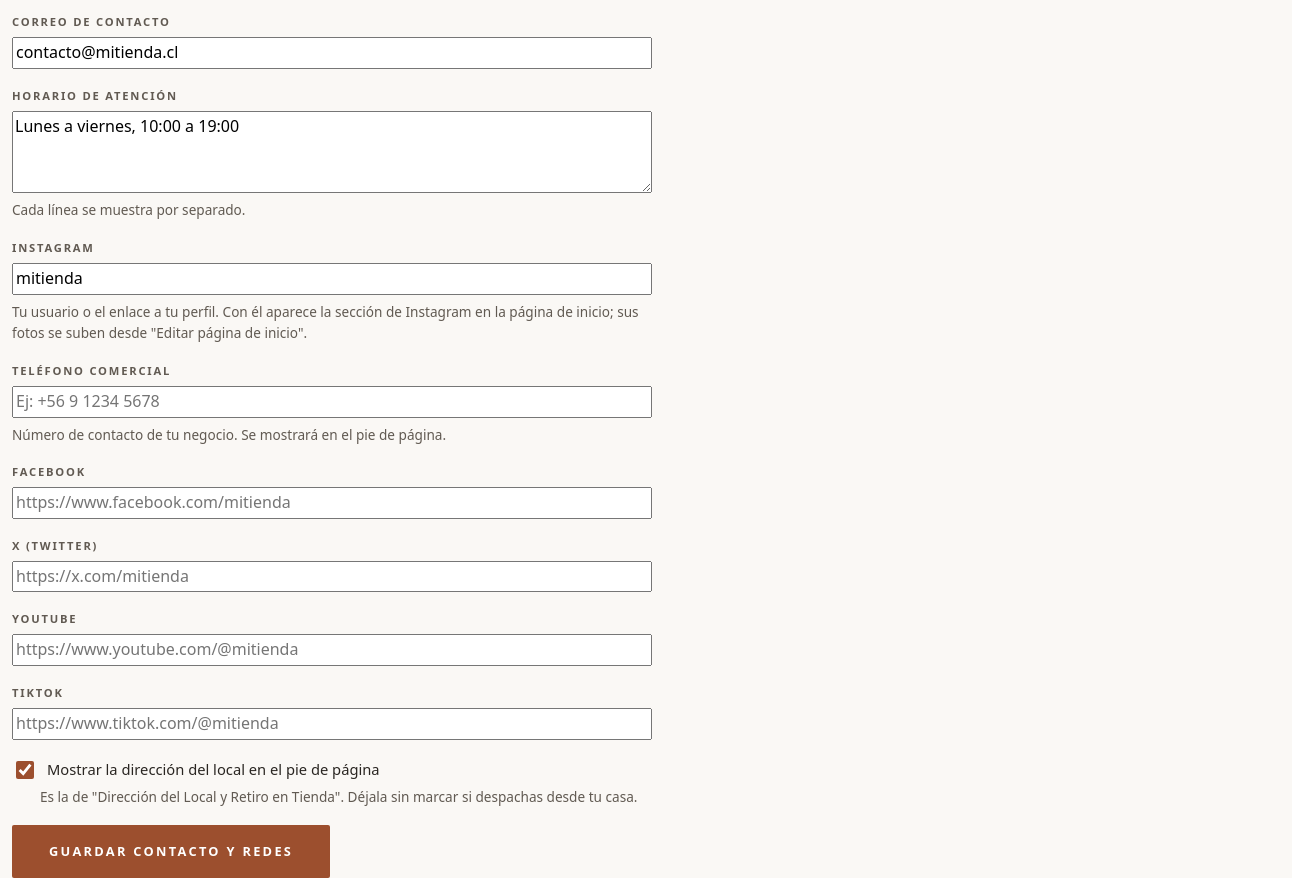
Test: GestorContacto › debe permitir volver a guardar después de un error
The image size is (1292, 878).
(page scrolled)
Click the button "Guardar contacto y redes": (171, 852) x1=12 y1=825 x2=330 y2=877
(page scrolled)
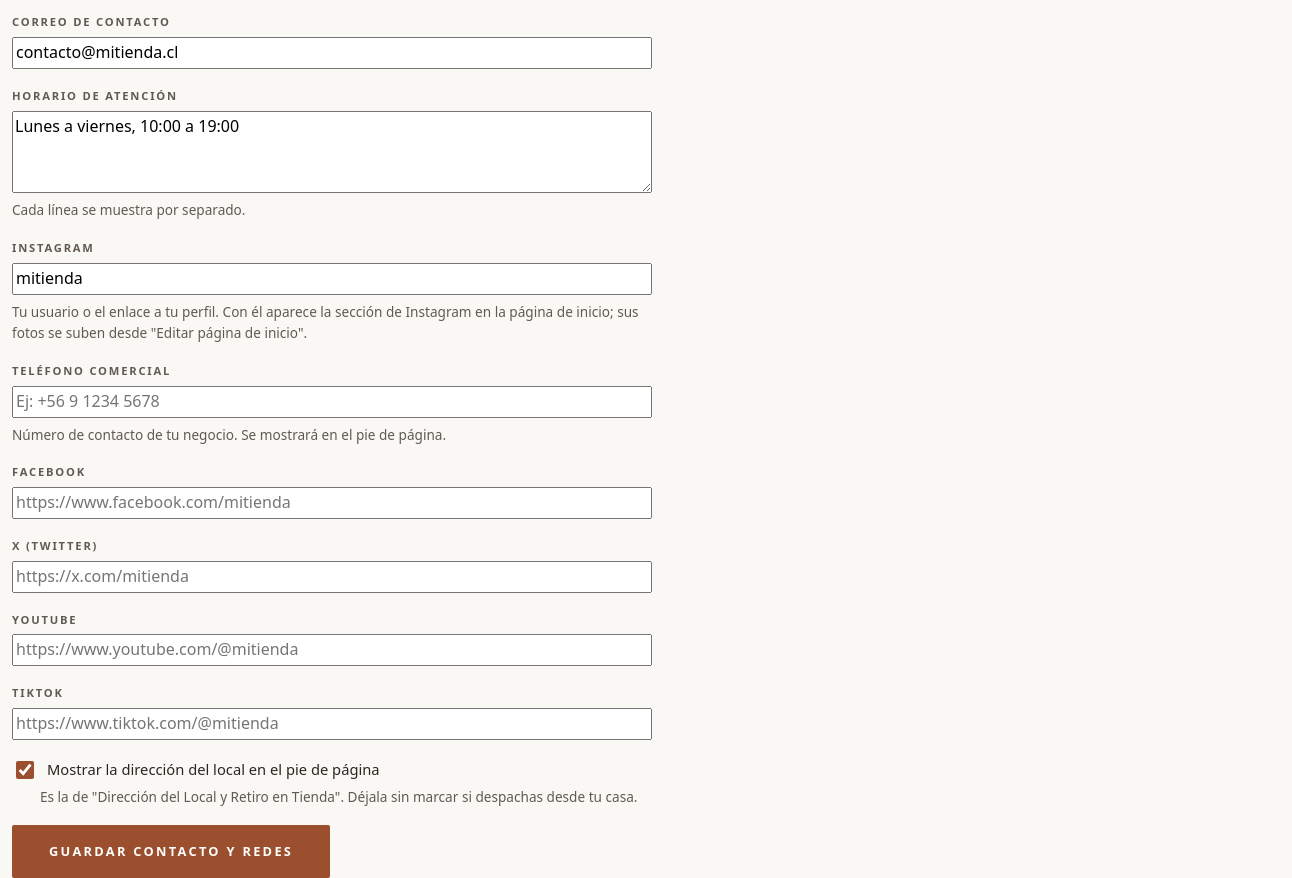
Click the button "Guardar contacto y redes": (171, 852) x1=12 y1=825 x2=330 y2=877
(page scrolled)
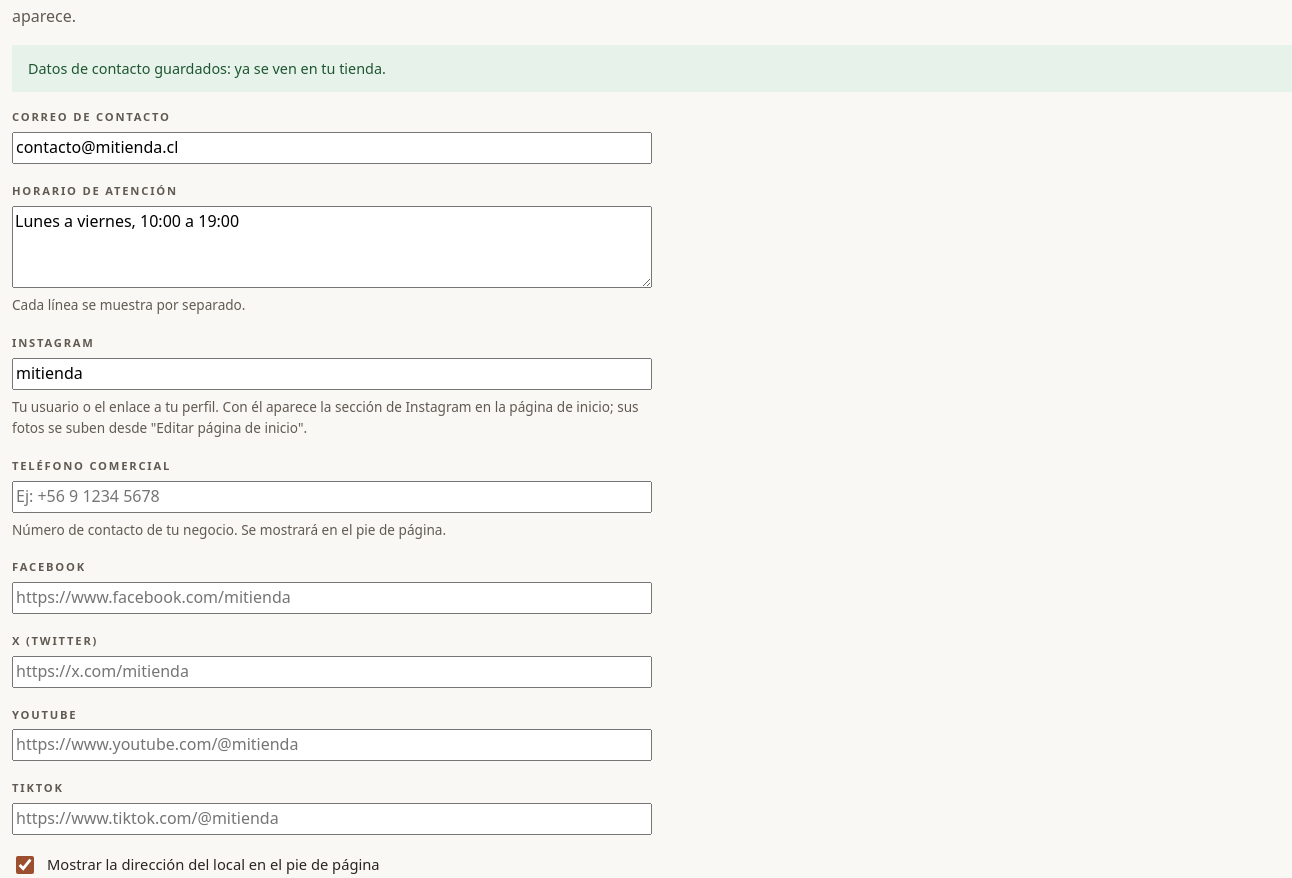
Result: the message shows "Datos de contacto guardados" at x1=28 y1=59 x2=386 y2=78
